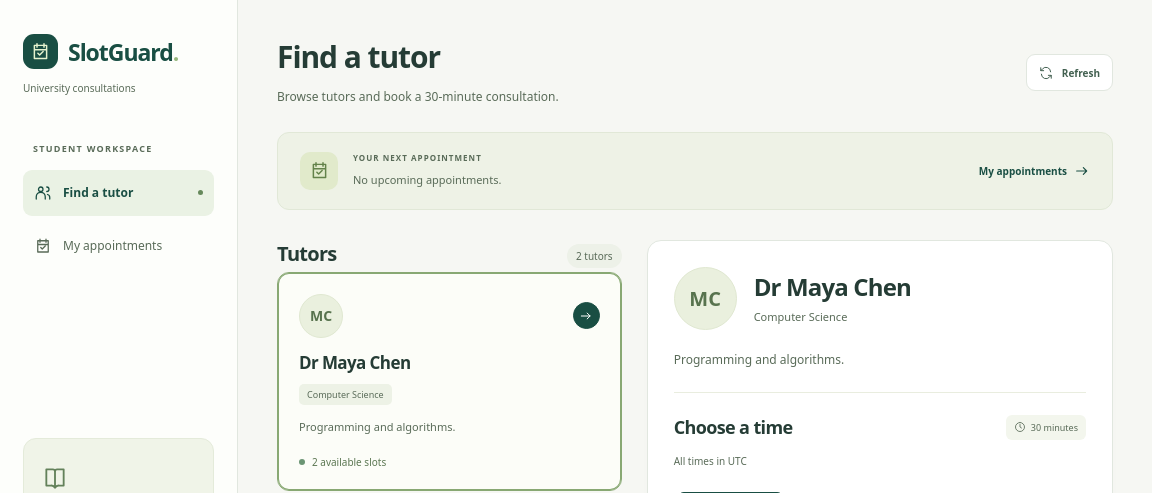
Test: Student booking and cancellation › keeps past appointments in history with no cancellation action
(page scrolled)
Check: the navigation bar named "Main navigation" is shown, box [23,170,214,268]
Click the button "My appointments" below "workspace".
click(118, 246)  # box [23,222,214,268]
(page scrolled)
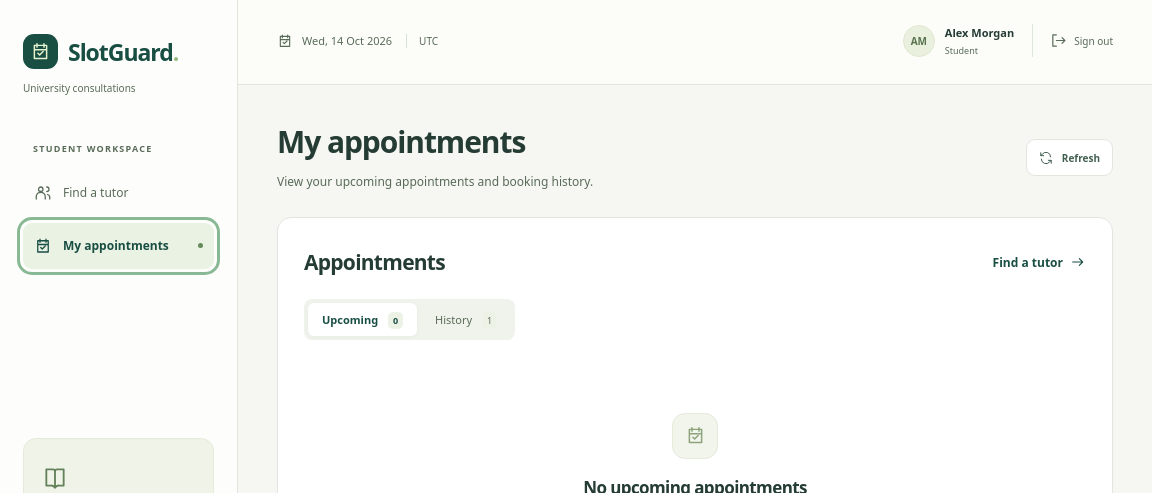
Click the button "History 1".
click(466, 319)  # box [421,303,511,336]
(page scrolled)
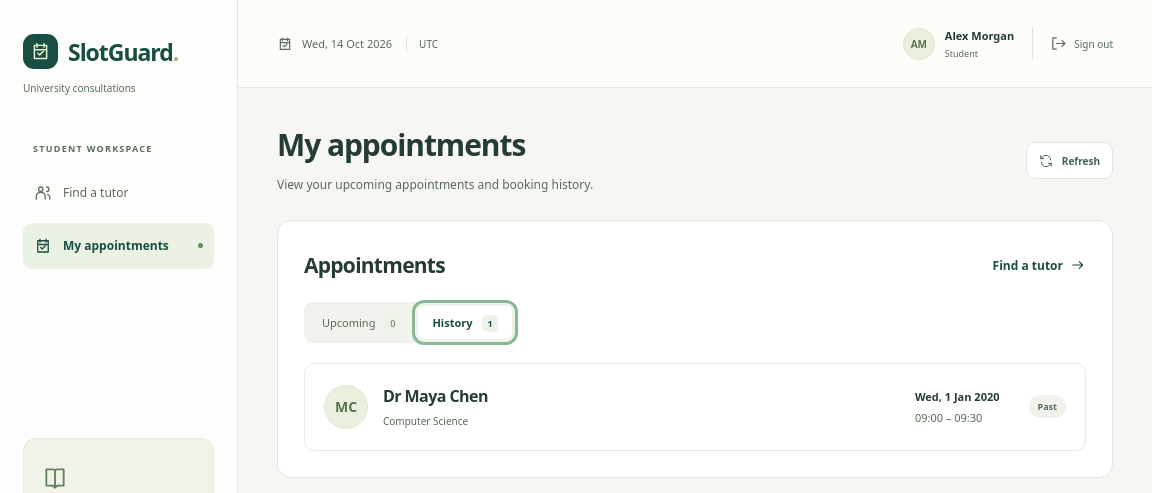
Check: the text "Past" is shown, box [1028,396,1066,418]
